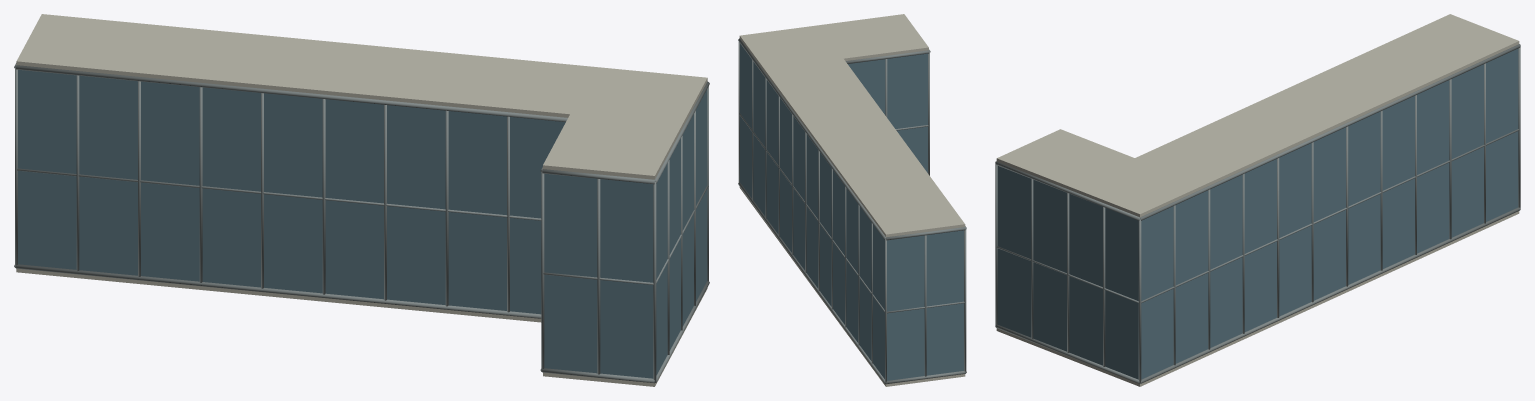
File: connector-v2-v3-lod0.glb
3 views of the same model, side by side, from view 1: azimuth 30°, elevation 25°; view 2: azimuth 150°, elevation 25°; view 3: azimuth 270°, elevation 25° (orthographic). The views are drawn at different scales.
Visible parts, largest first — view 1: connector-v2-v3_MATERIAL_BATCH; view 2: connector-v2-v3_MATERIAL_BATCH; view 3: connector-v2-v3_MATERIAL_BATCH.
Part boxes in pixels (box(x1,y1,x2,y2)): connector-v2-v3_MATERIAL_BATCH: box(14, 14, 709, 386); connector-v2-v3_MATERIAL_BATCH: box(738, 14, 966, 386); connector-v2-v3_MATERIAL_BATCH: box(995, 14, 1520, 386).
Bounding box in the file's own units: 13.19 × 5.27 × 14.53.
